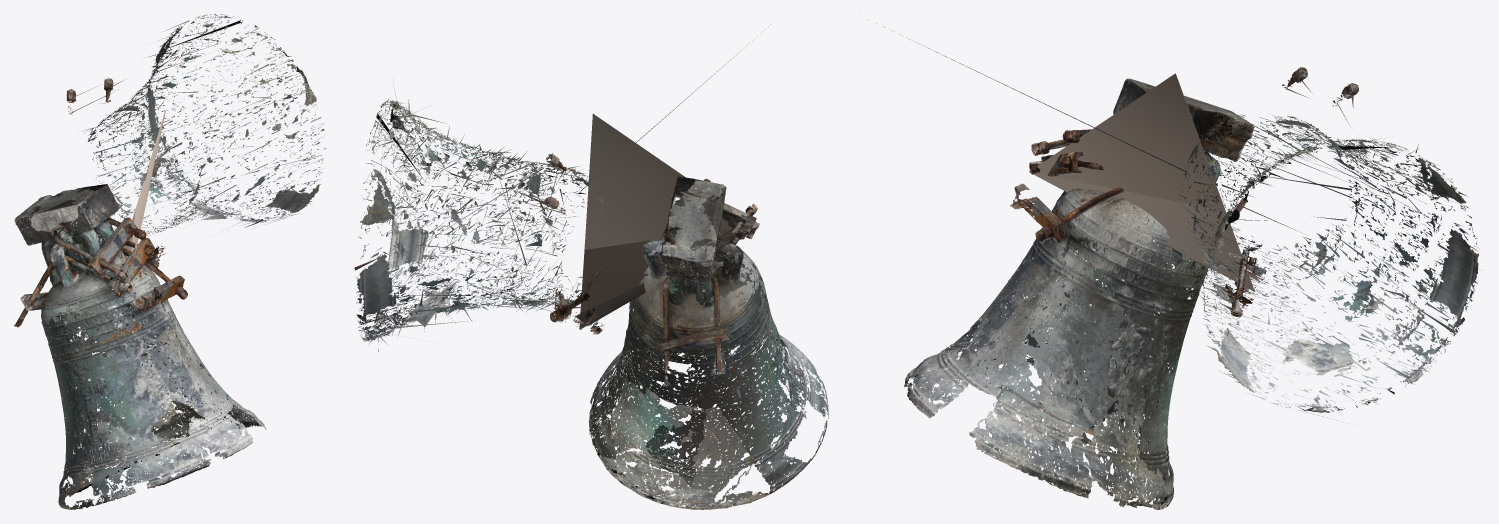
File: bell4-compressed.glb
The picture shows the model from 3 angles, left to right: view 1: azimuth 30°, elevation 25°; view 2: azimuth 150°, elevation 25°; view 3: azimuth 270°, elevation 25°; orthographic projection. The views are drawn at different scales.
Visible parts, largest first — view 1: Model; view 2: Model; view 3: Model.
Part boxes in pixels (left/top/right/bottom): Model: left=14, top=14, right=325, bottom=509; Model: left=354, top=29, right=828, bottom=509; Model: left=876, top=23, right=1479, bottom=509.
Size of the model in its own units: 3.42 by 3.85 by 4.38.
1 material, 1 textured.
